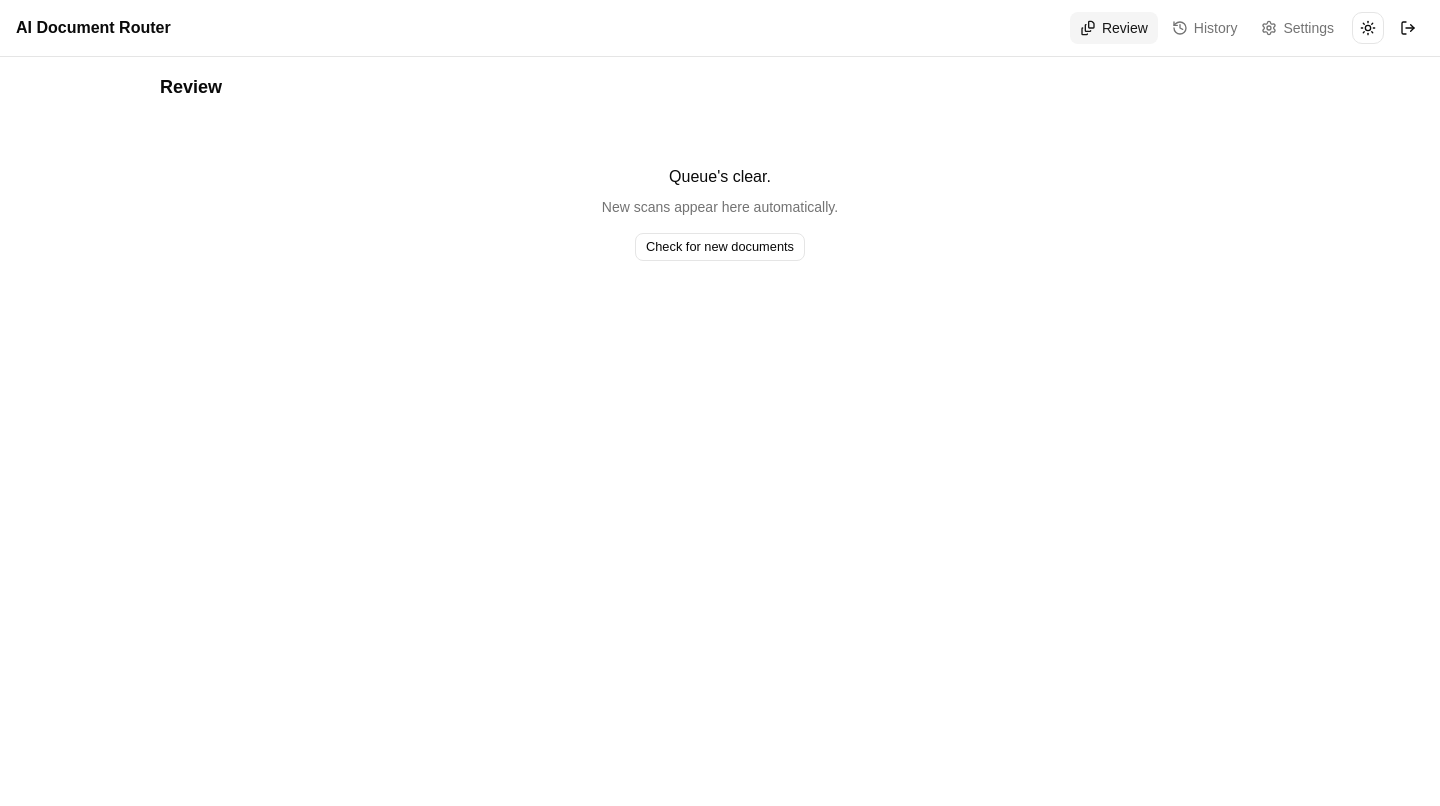
routing › navigates between routes via the top bar links
Expected: the heading "Review" is shown, [160, 73, 222, 101]
What coordinates should you click on to do the following:
click the link "History"
I would click on:
 (1205, 28)
Its box is [1172, 20, 1237, 36].
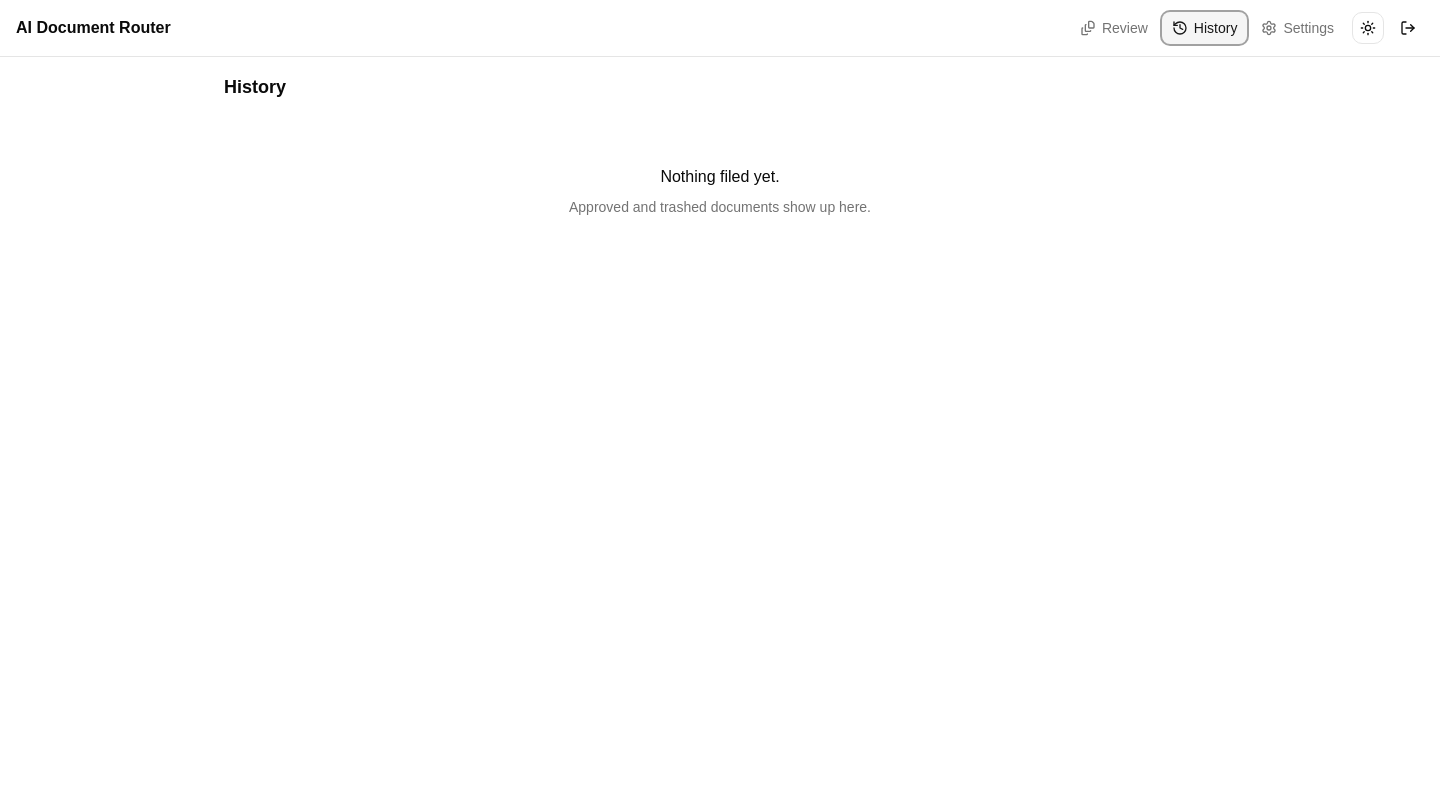
Expected: the heading "History" is shown, [224, 77, 286, 97]
What coordinates should you click on to do the following:
click the link "Settings"
I would click on:
 (1298, 28)
Its box is [1261, 20, 1334, 36].
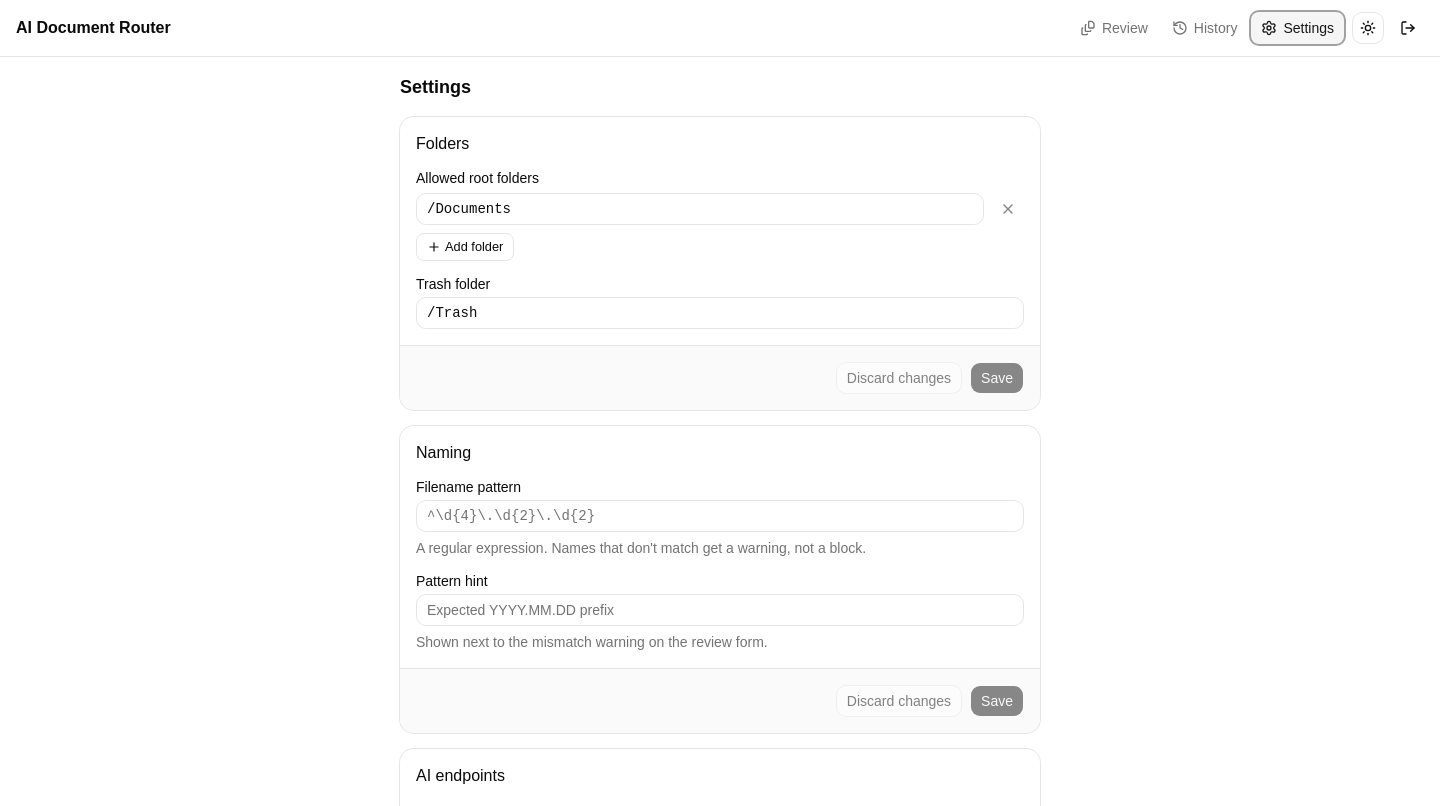
Expected: the heading "Settings" is shown, [400, 77, 471, 97]
